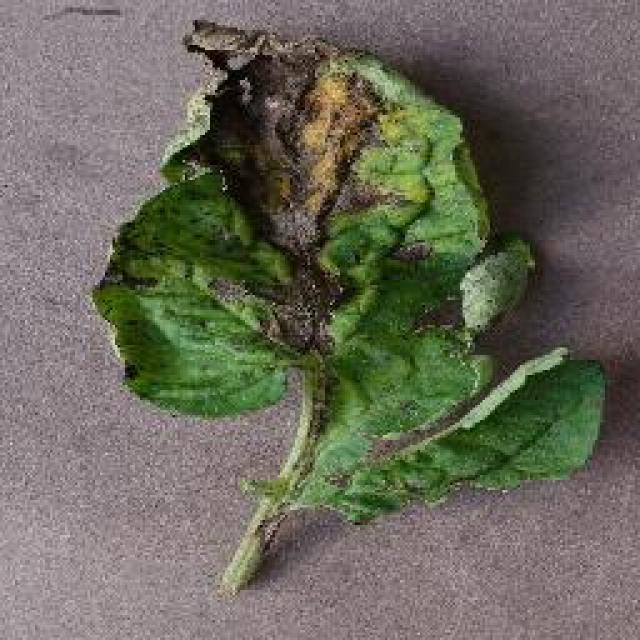Tomato Early blight leaf: (90, 23, 605, 605)
